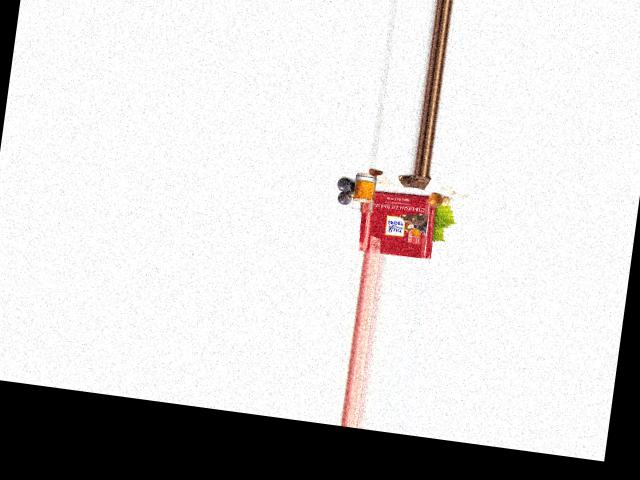chocolate: (358, 188, 441, 259)
